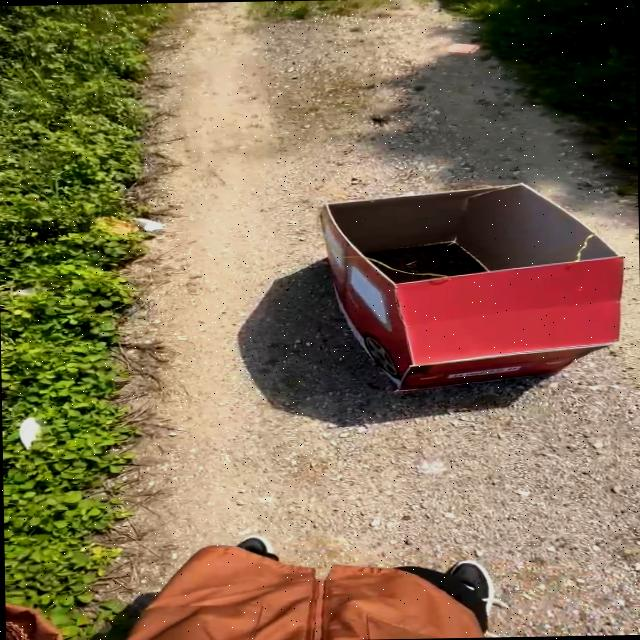red_car: (291, 176, 640, 410)
